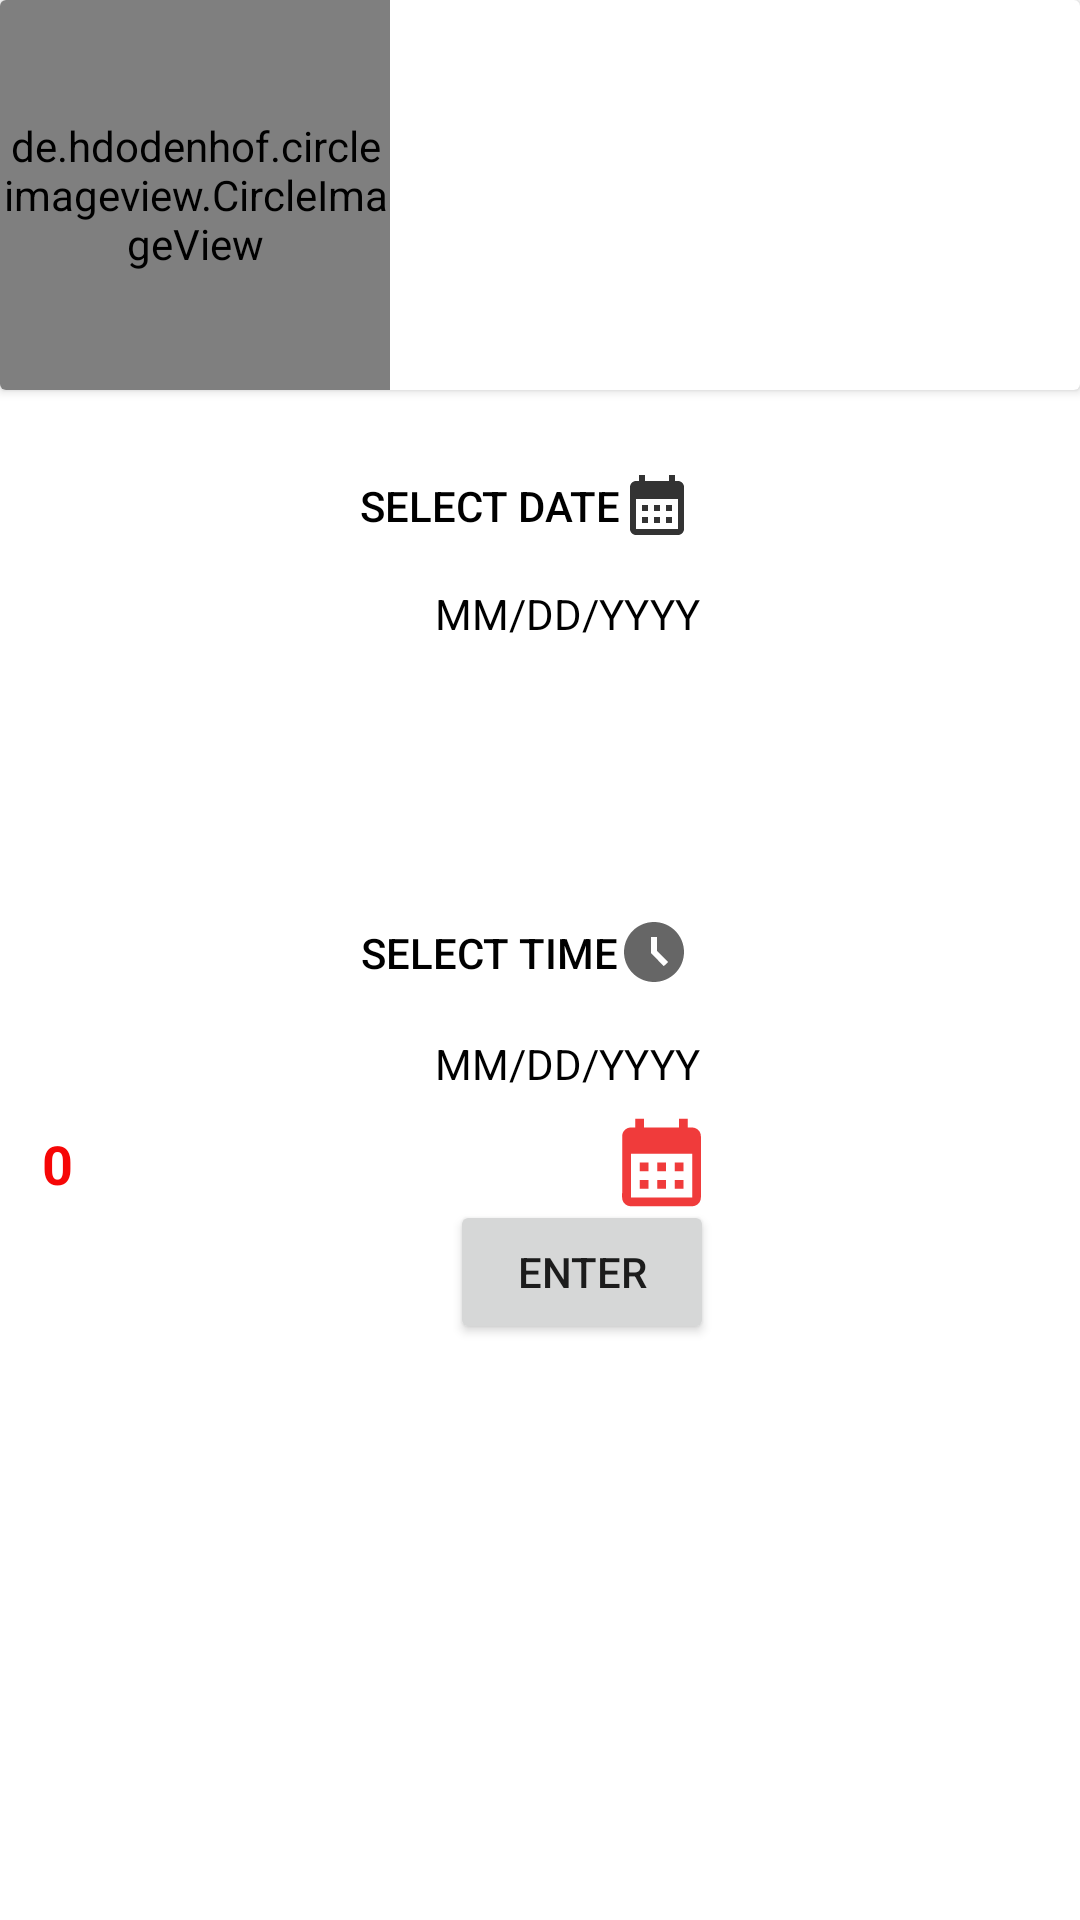

Icons on this 1080*1920 Android screen, each with the point to tap as point (x, y):
calender: point (661, 1162)
